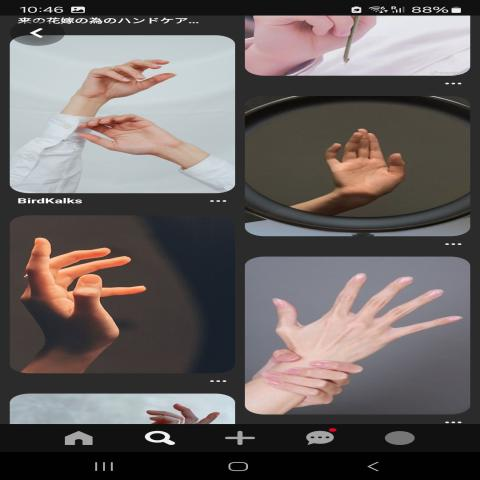hands: (269, 261, 466, 399), (16, 222, 169, 365), (309, 118, 417, 200), (69, 106, 200, 166), (64, 48, 195, 104)
